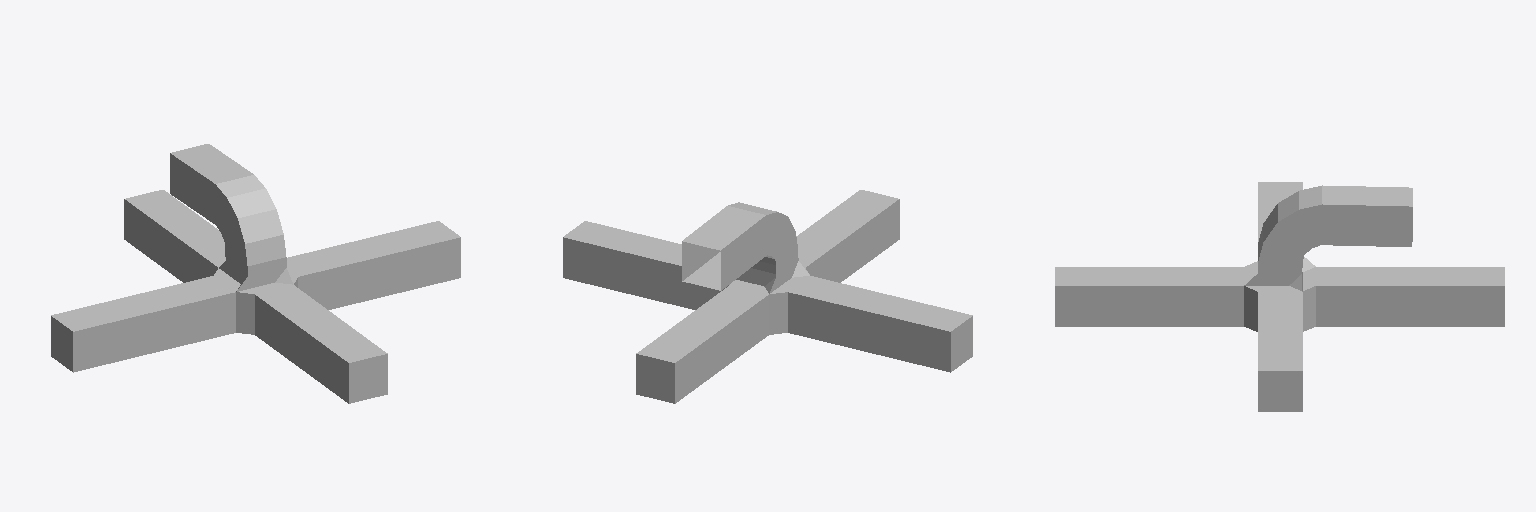
The model's file is tutorial_lvl_2.obj.
3 renders of one model, left to right at view 1: azimuth 30°, elevation 25°; view 2: azimuth 150°, elevation 25°; view 3: azimuth 270°, elevation 25°, orthographic.
Visible parts, largest first — view 1: Cube; view 2: Cube; view 3: Cube.
Boxes of the visible parts, x1,y1,x2,y2 form: Cube: [51, 144, 460, 403]; Cube: [563, 190, 972, 403]; Cube: [1055, 182, 1504, 411].
Bounding box in the file's own units: 39.87 × 11.98 × 39.95.